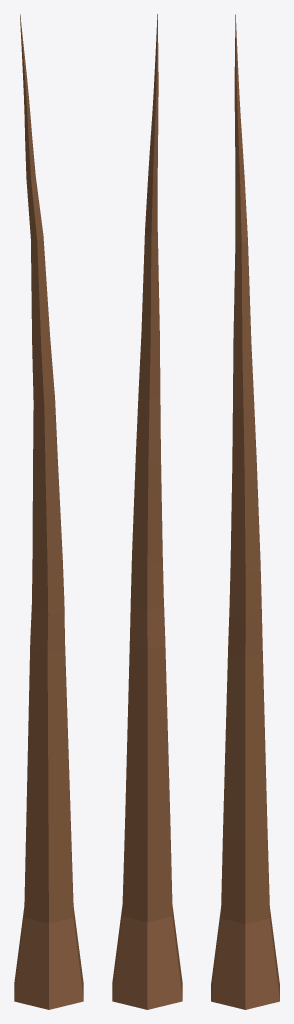
Rendered from tree-winter-trunk-15-033.glb.
The picture shows the model from 3 angles, left to right: view 1: azimuth 30°, elevation 25°; view 2: azimuth 150°, elevation 25°; view 3: azimuth 330°, elevation 25°; orthographic projection. The views are drawn at different scales.
Visible parts, largest first — view 1: TREE 15.010_195; view 2: TREE 15.010_195; view 3: TREE 15.010_195.
Boxes of the visible parts, left/top/right/bottom form: TREE 15.010_195: left=14, top=14, right=83, bottom=1009; TREE 15.010_195: left=112, top=14, right=182, bottom=1009; TREE 15.010_195: left=211, top=14, right=279, bottom=1009.
Size of the model in its own units: 0.1545 by 2.07 by 0.1338.
